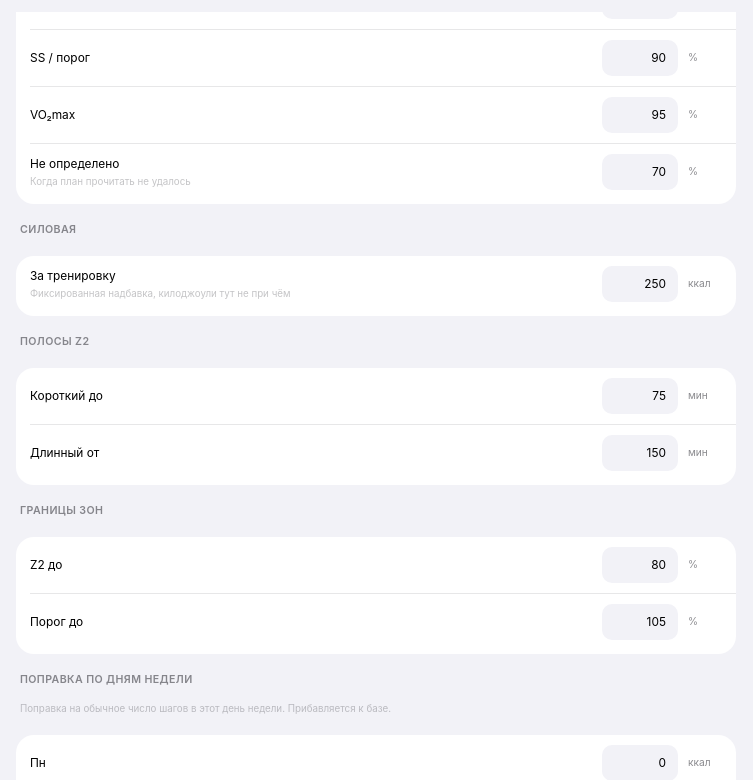
it: the preview › follows a band edge, which reclassifies an example
(page scrolled)
Replace the text in the field named "Короткий до" with "130" at (640, 396), box [602,378,678,414]
(page scrolled)
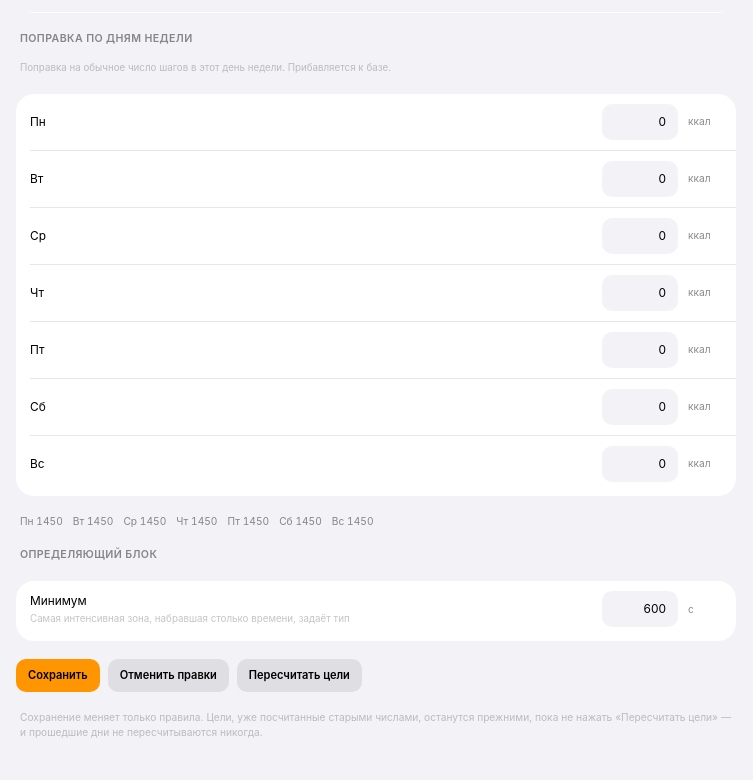
Check: the button "Сохранить" is enabled, box [16,659,100,692]
